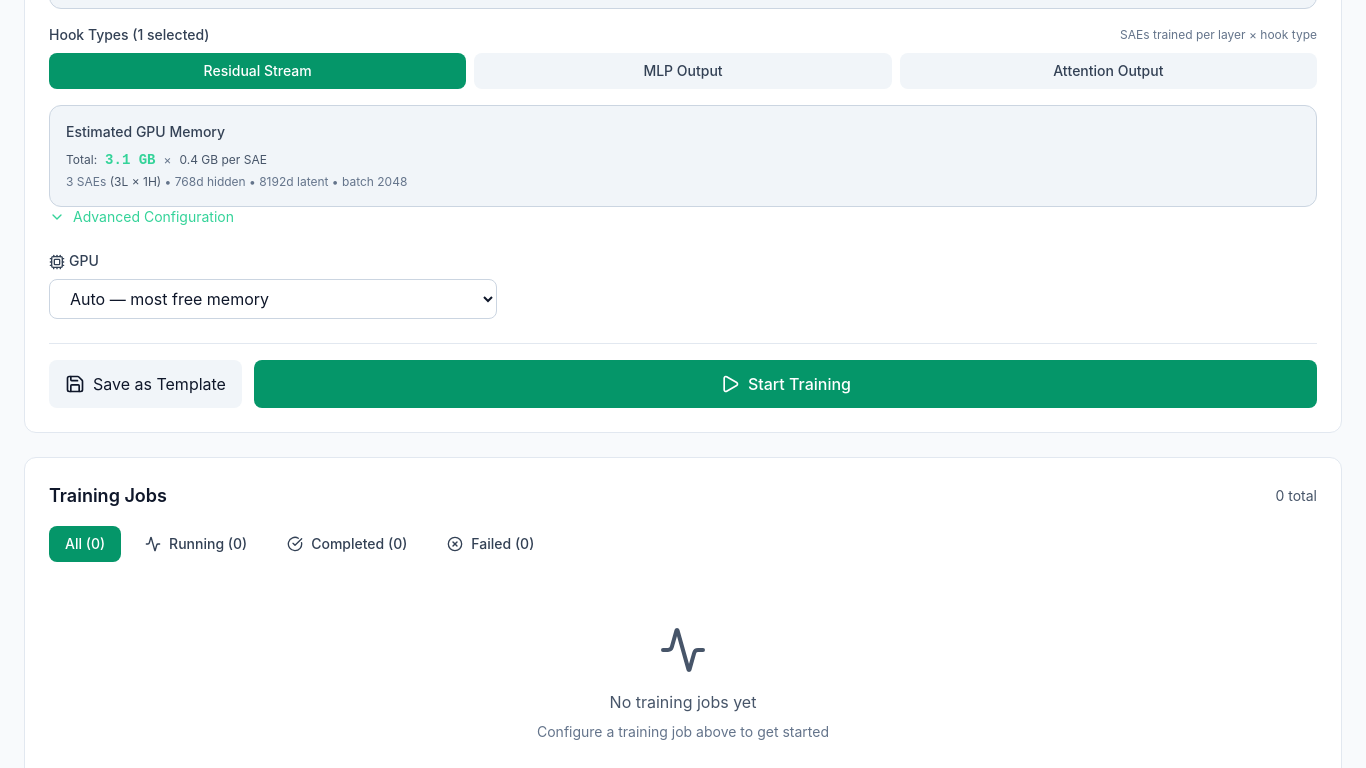
TrainingPanel › Starting Training › should show loading state when starting training
This screenshot has width=1366, height=768.
(page scrolled)
Click the button "Start Training" at (785, 384), box 254,360 -> 1317,408
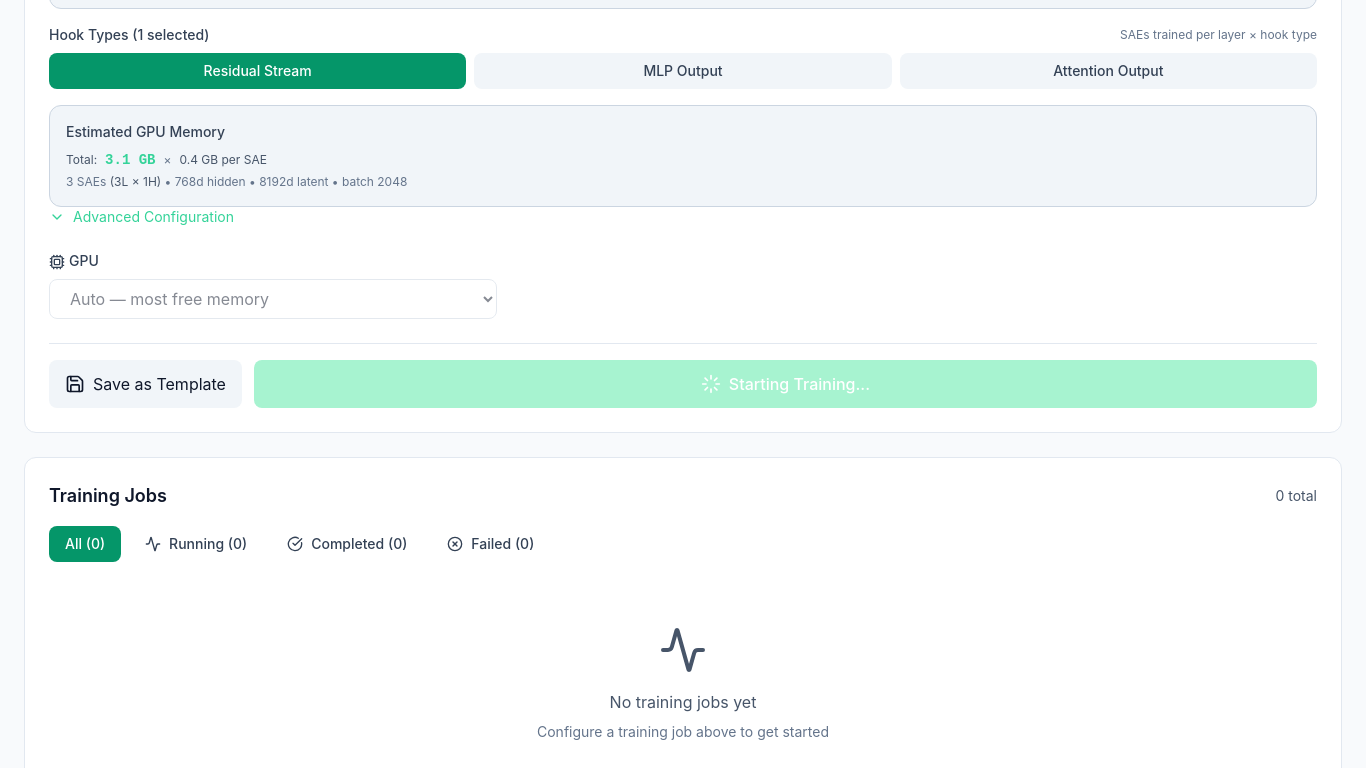
Check: the button "Starting Training..." is shown, box 254,360 -> 1317,408
